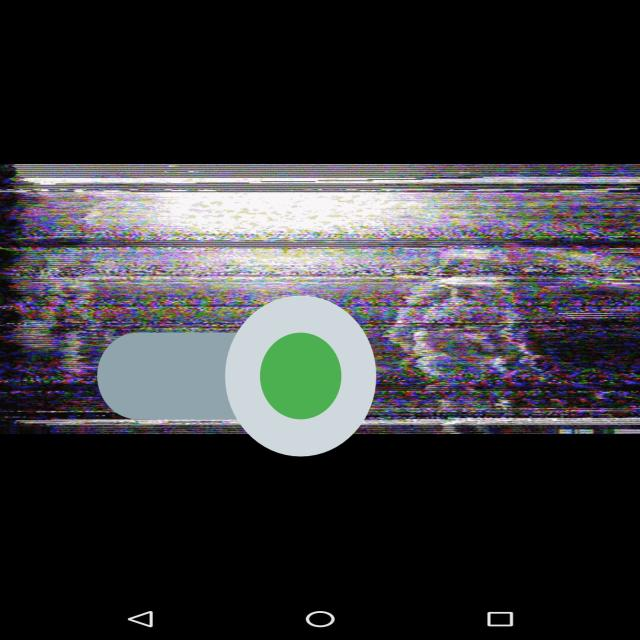social proof: (97, 227, 376, 525)
